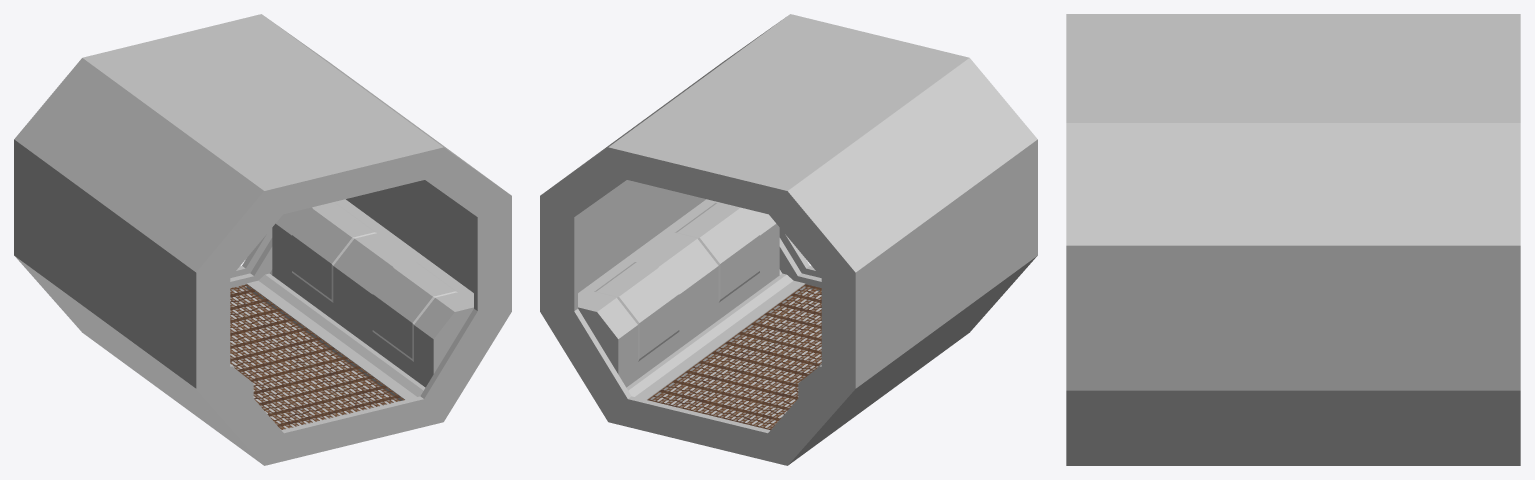
The model's file is Corridor.fbx.
The picture shows the model from 3 angles, left to right: view 1: azimuth 30°, elevation 25°; view 2: azimuth 150°, elevation 25°; view 3: azimuth 270°, elevation 25°; orthographic projection. The views are drawn at different scales.
Parts seen in each view (by area): view 1: Corridor_Simple, Grate_Floor; view 2: Corridor_Simple, Grate_Floor; view 3: Corridor_Simple.
Boxes of the visible parts, bbox=[...] form: Corridor_Simple: bbox=[14, 14, 511, 465]; Grate_Floor: bbox=[230, 284, 404, 429]; Corridor_Simple: bbox=[540, 14, 1037, 465]; Grate_Floor: bbox=[647, 284, 821, 429]; Corridor_Simple: bbox=[1066, 14, 1520, 465].
Size of what is drawn, in the model's own units: 400 by 333 by 400.
